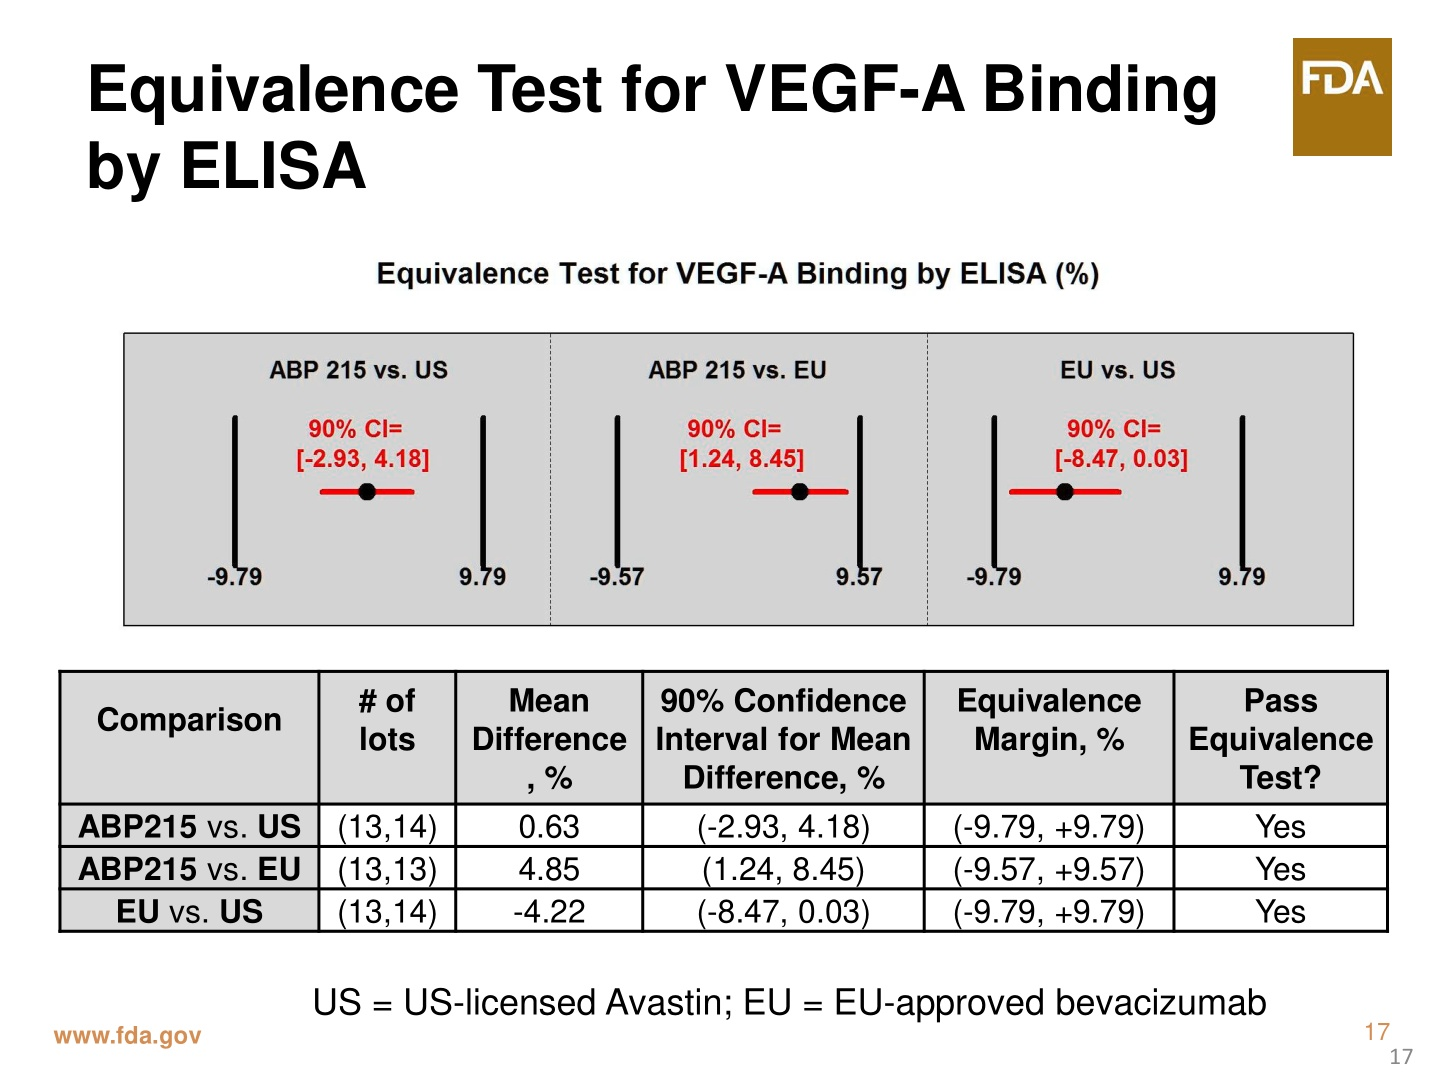full_lined: (57, 669, 1389, 934)
